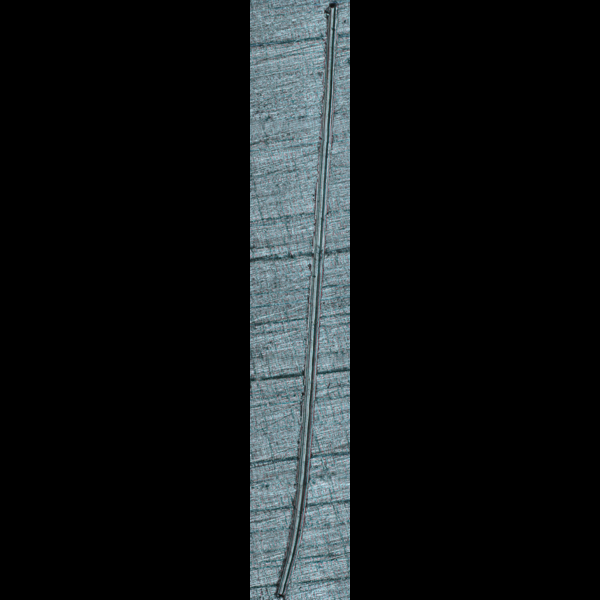d: (268, 0, 341, 599)
